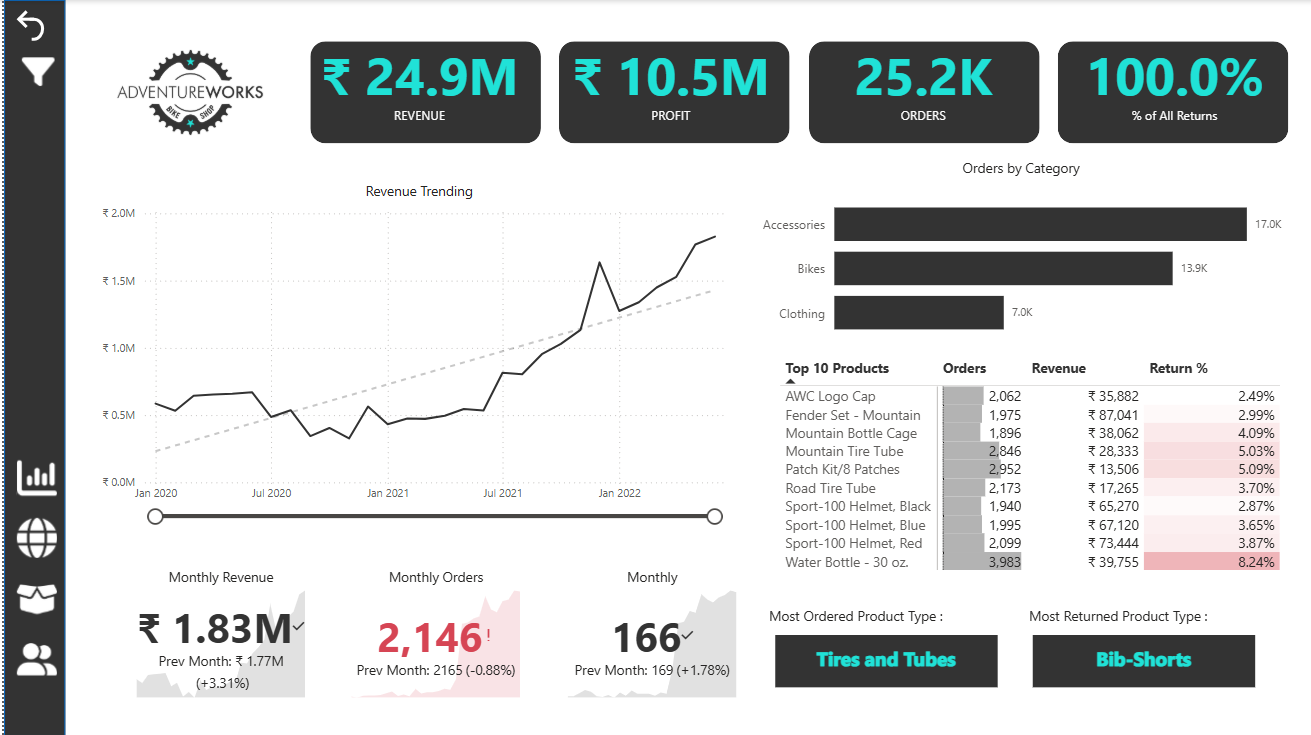

This screenshot's page, from the dashboard's own definition file:
{"tool":"powerbi","page":{"name":"Exec Dashboard","canvas":[1280,720],"ordinal":0},"visuals":[{"type":"card","fields":{"Values":["Measure Table.Total Revenue"]},"box":[287.5,5,238.8,150],"z":0,"group":"g2"},{"type":"image","title":"AW Logo","box":[90,24.3,184.3,131.4],"z":0},{"type":"group","id":"g1","title":"KPI Backgrounds","box":[300,40,957.1,100],"z":0,"group":"g3"},{"type":"shape","box":[300,40,225.7,100],"z":0,"group":"g1"},{"type":"actionButton","box":[8.8,503,70,47.5],"z":0,"group":"g4"},{"type":"shape","title":"Left Nav Background","box":[0,0,60,720],"z":1000},{"type":"group","id":"g2","title":"KPI Values","box":[287.5,5,977.5,150],"z":1000,"group":"g3"},{"type":"card","fields":{"Values":["Measure Table.Total Profit"]},"box":[533.7,5,238.8,150],"z":1000,"group":"g2"},{"type":"shape","box":[543.8,40,225.7,100],"z":1000,"group":"g1"},{"type":"actionButton","box":[8.8,443.8,70,47.5],"z":1000,"group":"g4"},{"type":"group","id":"g3","title":"KPIs","box":[287.5,5,977.5,150],"z":2000},{"type":"card","fields":{"Values":["Measure Table.Total Orders"]},"box":[780,5,238.8,150],"z":2000,"group":"g2"},{"type":"shape","box":[787.6,40,225.7,100],"z":2000,"group":"g1"},{"type":"actionButton","box":[8.8,562.1,70,47.5],"z":2000,"group":"g4"},{"type":"card","fields":{"Values":["Measure Table.% of All Returns"]},"box":[1026.3,5,238.8,150],"z":3000,"group":"g2"},{"type":"shape","box":[1031.4,40,225.7,100],"z":3000,"group":"g1"},{"type":"lineChart","title":"Revenue Trending","fields":{"Y":["Measure Table.Total Revenue"],"Category":["Calendar Lookup.Year","Calendar Lookup.Start of Quarter","Calendar Lookup.Start of Month"]},"box":[90,177.5,631.2,338.8],"z":3000},{"type":"actionButton","box":[8.8,621.3,70,47.5],"z":3000,"group":"g4"},{"type":"kpi","title":"Monthly Revenue","fields":{"Indicator":["Measure Table.Total Revenue"],"Goal":["Measure Table.Previous Month Revenue"],"TrendLine":["Calendar Lookup.Start of Month"]},"box":[125,555,175,132.5],"z":4000},{"type":"kpi","title":"Monthly Orders","fields":{"TrendLine":["Calendar Lookup.Start of Month"],"Indicator":["Measure Table.Total Orders"],"Goal":["Measure Table.Previous Month Orders"]},"box":[335.6,555,175,132.5],"z":5000},{"type":"kpi","title":"Monthly ","fields":{"TrendLine":["Calendar Lookup.Start of Month"],"Indicator":["Measure Table.Total Returns"],"Goal":["Measure Table.Previous Month Returns"]},"box":[546.2,555,175,132.5],"z":6000},{"type":"clusteredBarChart","title":"Orders by Category","fields":{"Category":["Product Categories Lookup.CategoryName"],"Y":["Measure Table.Total Orders"]},"box":[732.5,155,525,191.2],"z":7000},{"type":"pivotTable","fields":{"Rows":["Product Lookup.ProductName"],"Values":["Measure Table.Total Orders","Measure Table.Total Revenue","Measure Table.% of All Returns"]},"box":[755,346.2,502.5,225],"z":8000},{"type":"card","fields":{"Values":["Min(Product Subcategories Lookup.SubcategoryName)"]},"box":[755,621.2,217.5,51.2],"z":9000},{"type":"textbox","box":[743.8,588.8,190,32.5],"z":10000},{"type":"card","fields":{"Values":["Min(Product Subcategories Lookup.SubcategoryName)"]},"box":[1006.2,621.2,217.5,51.2],"z":11000},{"type":"textbox","box":[997.7,588.8,190,32.5],"z":12000},{"type":"actionButton","box":[6.2,5,48.8,40],"z":13000},{"type":"group","id":"g4","title":"Navigation Buttons","box":[8.8,443.8,70,225],"z":14000},{"type":"actionButton","box":[13.8,50,60,40],"z":15000}]}

Visuals, with their boxes on the page's 1280x720 design canvas (x1, y1, x2, y2). These are canvas units, not pixel positions in the 1311x735 screenshot, which may show the page scaled, cropped or inside an application window:
card - Measure Table.Total Revenue: {"left": 288, "top": 5, "right": 526, "bottom": 155}
"AW Logo" image: {"left": 90, "top": 24, "right": 274, "bottom": 156}
"KPI Backgrounds" group: {"left": 300, "top": 40, "right": 1257, "bottom": 140}
shape: {"left": 300, "top": 40, "right": 526, "bottom": 140}
actionButton: {"left": 9, "top": 503, "right": 79, "bottom": 550}
"Left Nav Background" shape: {"left": 0, "top": 0, "right": 60, "bottom": 720}
"KPI Values" group: {"left": 288, "top": 5, "right": 1265, "bottom": 155}
card - Measure Table.Total Profit: {"left": 534, "top": 5, "right": 772, "bottom": 155}
shape: {"left": 544, "top": 40, "right": 770, "bottom": 140}
actionButton: {"left": 9, "top": 444, "right": 79, "bottom": 491}
"KPIs" group: {"left": 288, "top": 5, "right": 1265, "bottom": 155}
card - Measure Table.Total Orders: {"left": 780, "top": 5, "right": 1019, "bottom": 155}
shape: {"left": 788, "top": 40, "right": 1013, "bottom": 140}
actionButton: {"left": 9, "top": 562, "right": 79, "bottom": 610}
card - Measure Table.% of All Returns: {"left": 1026, "top": 5, "right": 1265, "bottom": 155}
shape: {"left": 1031, "top": 40, "right": 1257, "bottom": 140}
"Revenue Trending" lineChart: {"left": 90, "top": 178, "right": 721, "bottom": 516}
actionButton: {"left": 9, "top": 621, "right": 79, "bottom": 669}
"Monthly Revenue" kpi: {"left": 125, "top": 555, "right": 300, "bottom": 688}
"Monthly Orders" kpi: {"left": 336, "top": 555, "right": 511, "bottom": 688}
"Monthly " kpi: {"left": 546, "top": 555, "right": 721, "bottom": 688}
"Orders by Category" clusteredBarChart: {"left": 732, "top": 155, "right": 1258, "bottom": 346}
pivotTable - Product Lookup.ProductName x Measure Table.Total Orders: {"left": 755, "top": 346, "right": 1258, "bottom": 571}
card - Min(Product Subcategories Lookup.SubcategoryName): {"left": 755, "top": 621, "right": 972, "bottom": 672}
textbox: {"left": 744, "top": 589, "right": 934, "bottom": 621}
card - Min(Product Subcategories Lookup.SubcategoryName): {"left": 1006, "top": 621, "right": 1224, "bottom": 672}
textbox: {"left": 998, "top": 589, "right": 1188, "bottom": 621}
actionButton: {"left": 6, "top": 5, "right": 55, "bottom": 45}
"Navigation Buttons" group: {"left": 9, "top": 444, "right": 79, "bottom": 669}
actionButton: {"left": 14, "top": 50, "right": 74, "bottom": 90}
